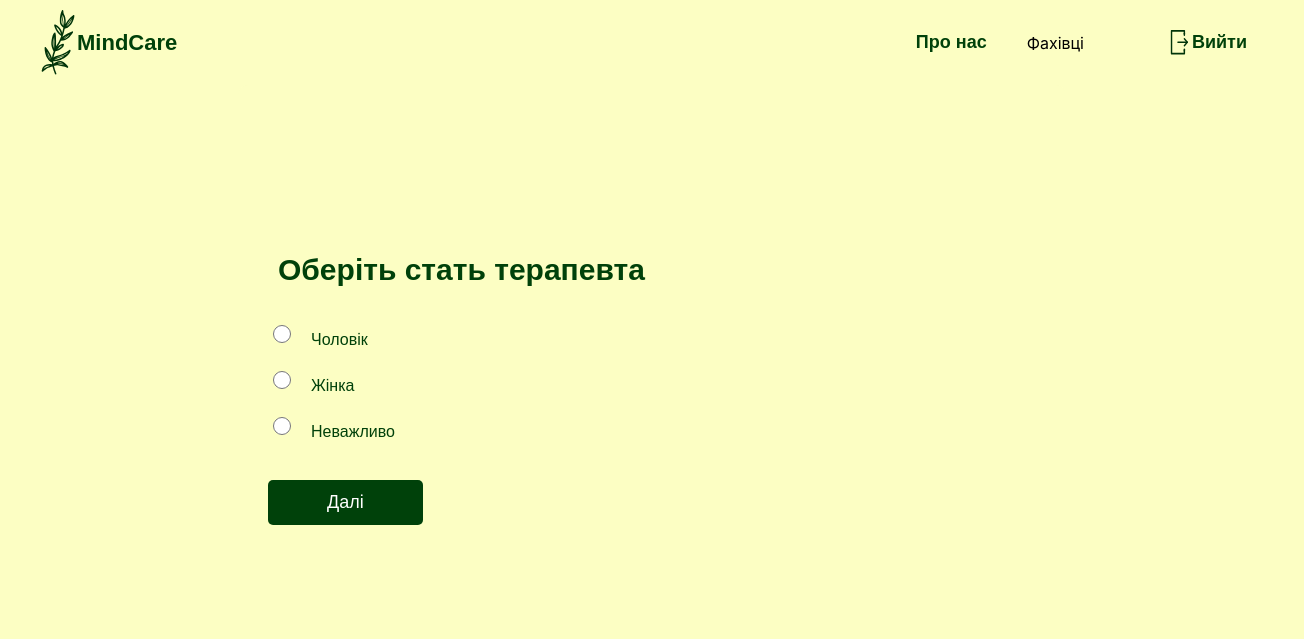
it: FindTherapist › renders specialization step after valid first steps
Click the radio button labelled "Чоловік" at (282, 334), box [273,325,291,343]
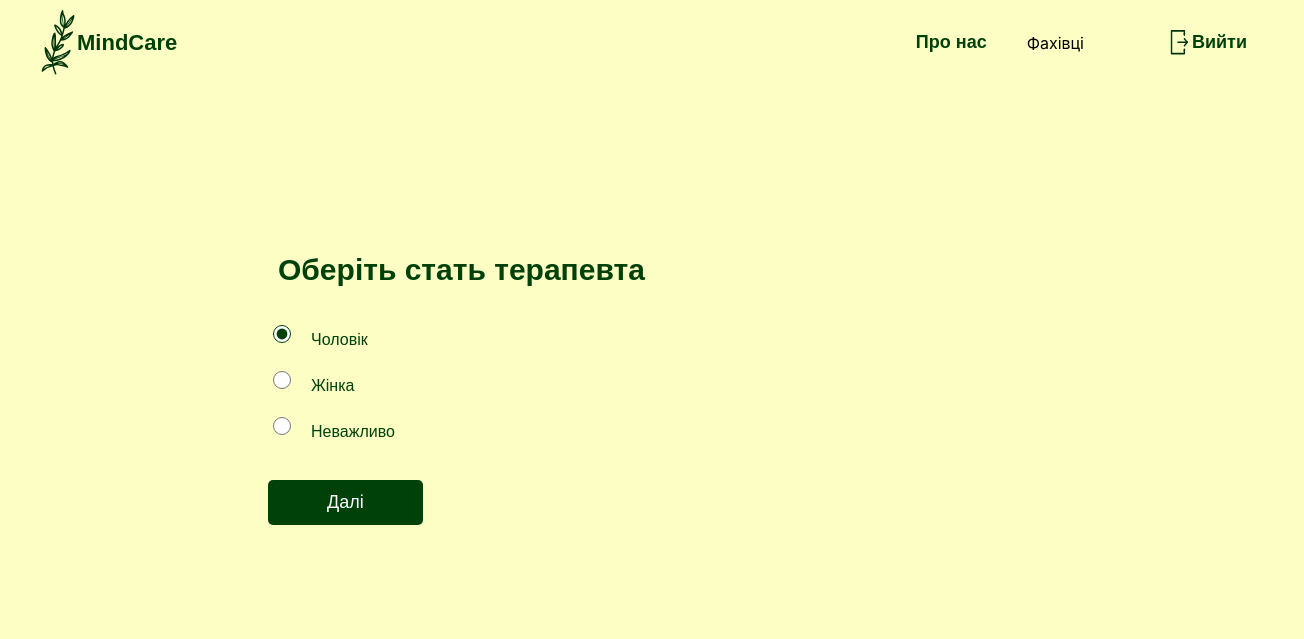
Click the button "Далі" at (345, 502), box [268,480,423,524]
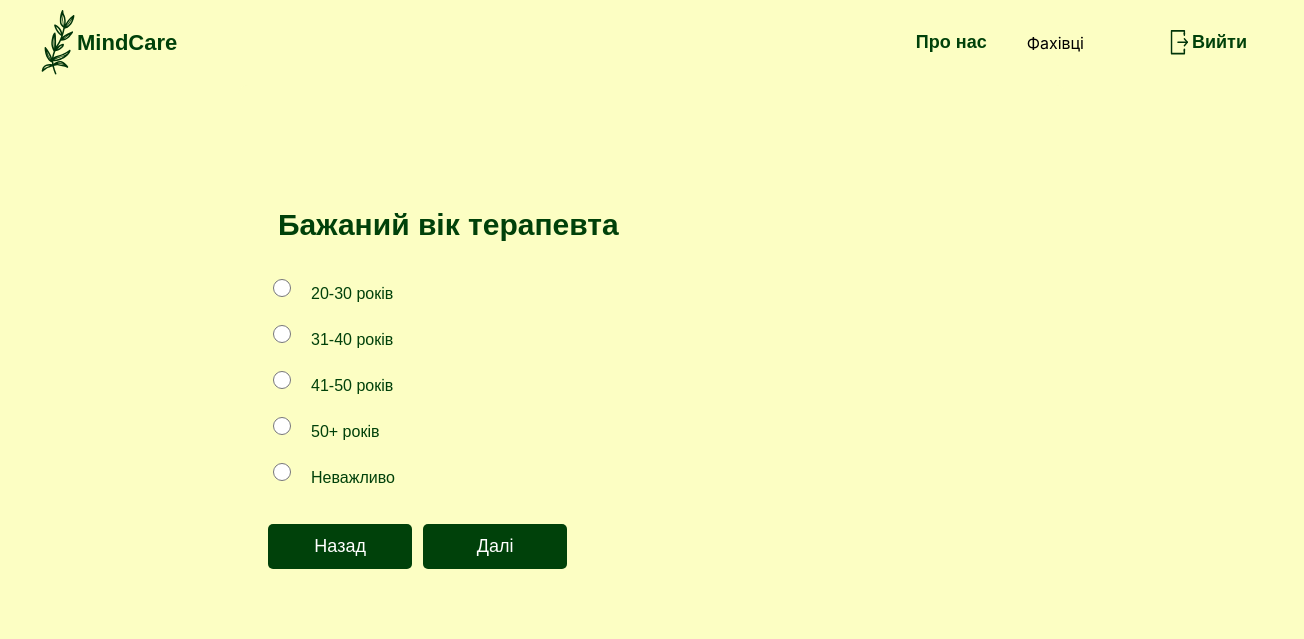
Click the radio button labelled "20-30 років" at (282, 288), box [273,280,291,298]
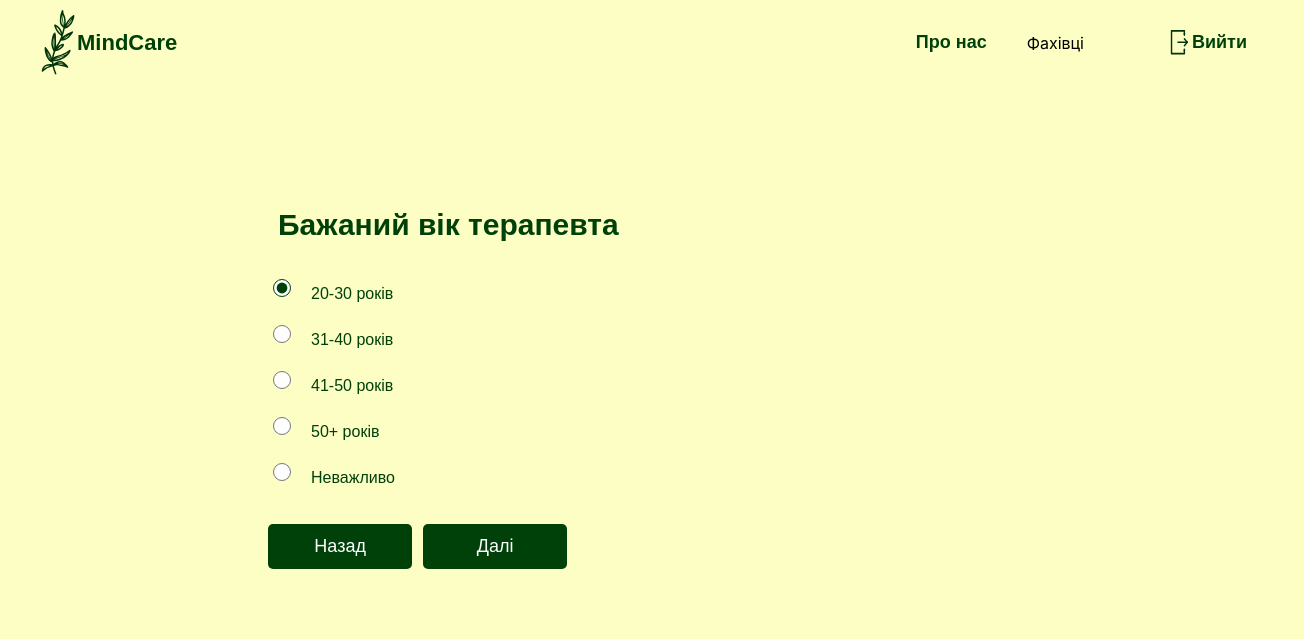
Click the button "Далі" at (495, 547), box [423,524,567,570]
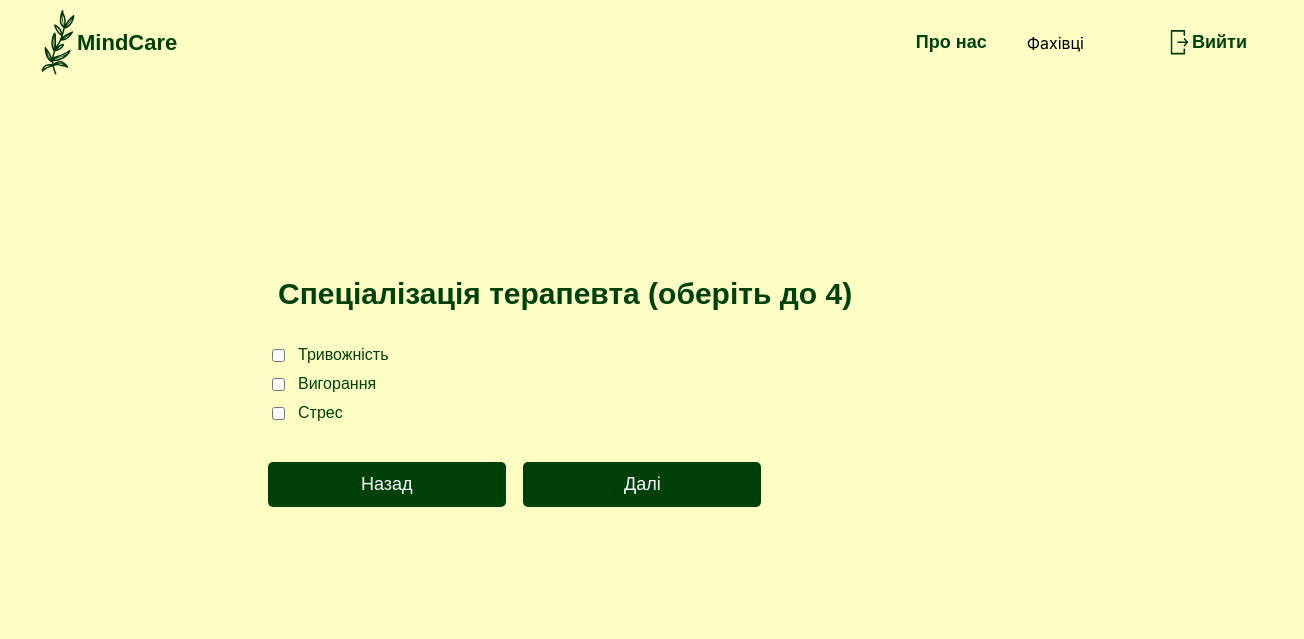
Expected: the heading "Спеціалізація терапевта (оберіть до 4)" is shown, [268,267,862,321]
